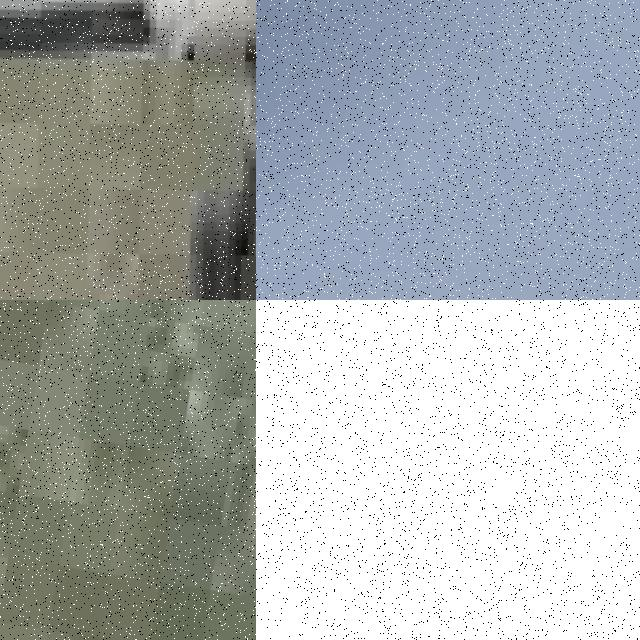0: (0, 0, 256, 300)
drone: (256, 0, 640, 300)
